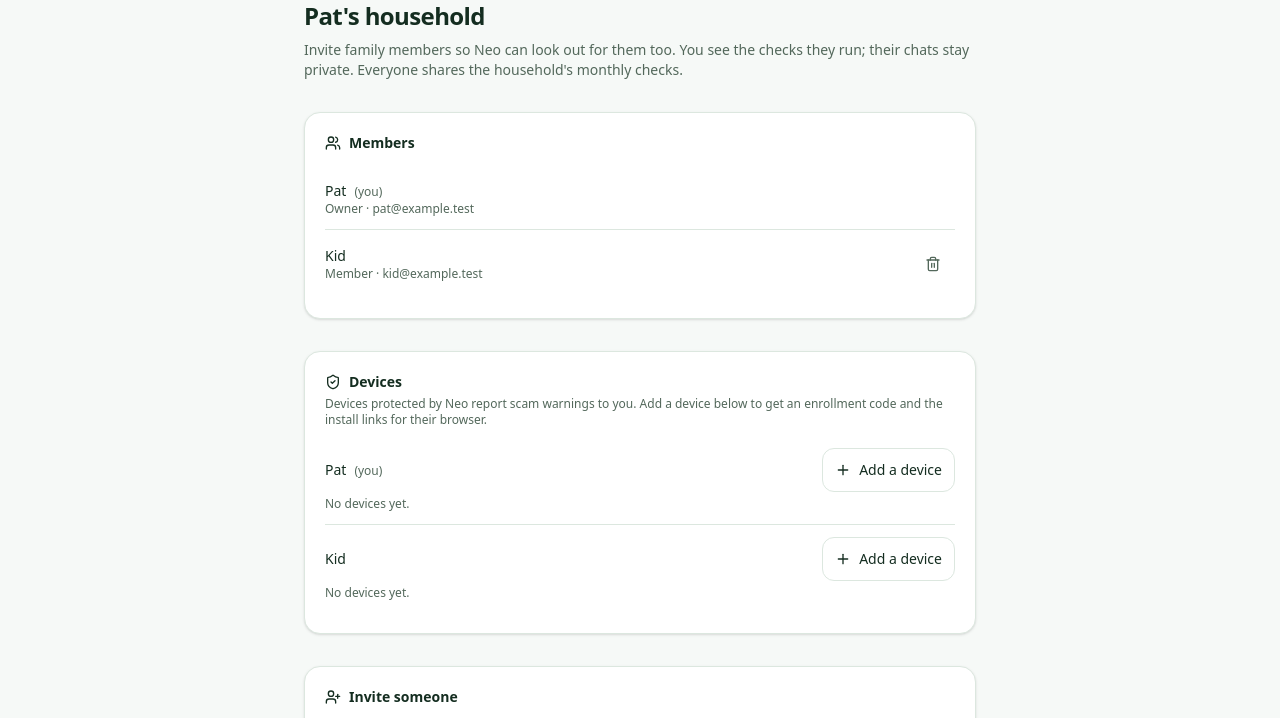
HouseholdSettingsView › shows members, invites and a confirmation before removing someone
Click the button named "Remove Kid".
click(933, 264)  # box [911,242,955,286]
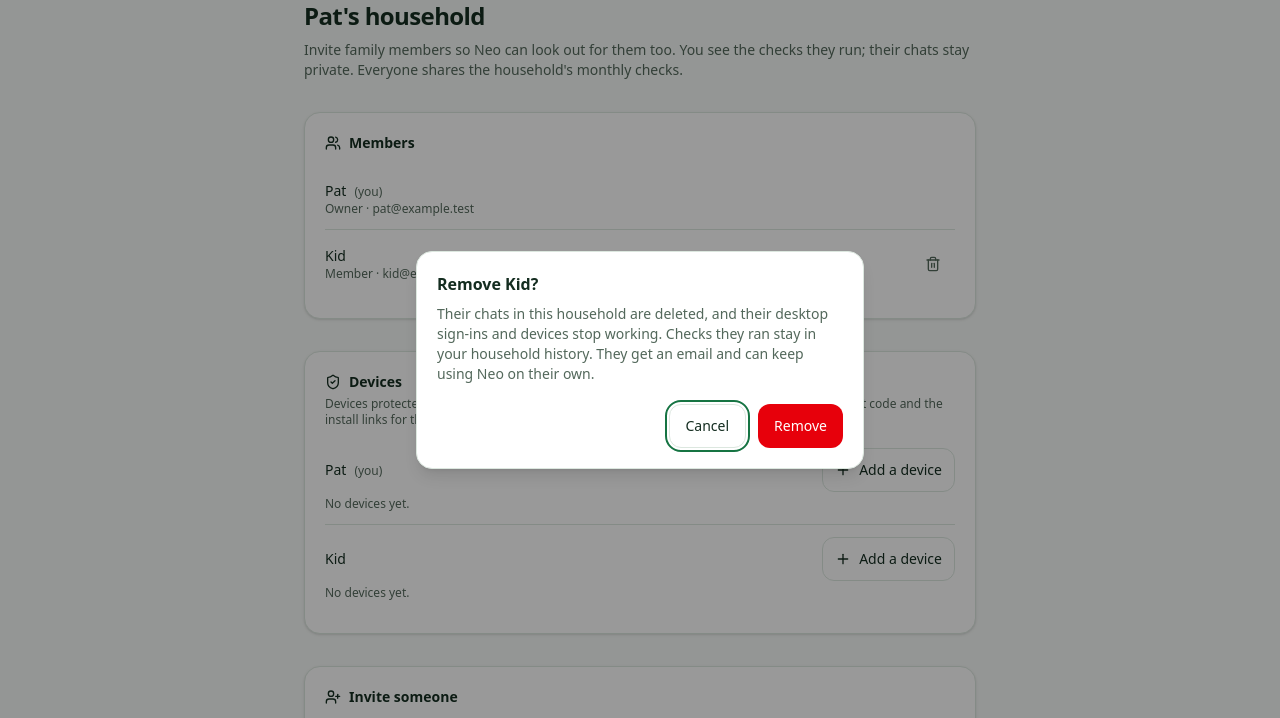
Now the heading "Remove Kid?" is shown, box [437,273,538,295]
Click the button "Remove".
click(801, 426)  # box [758,404,843,448]
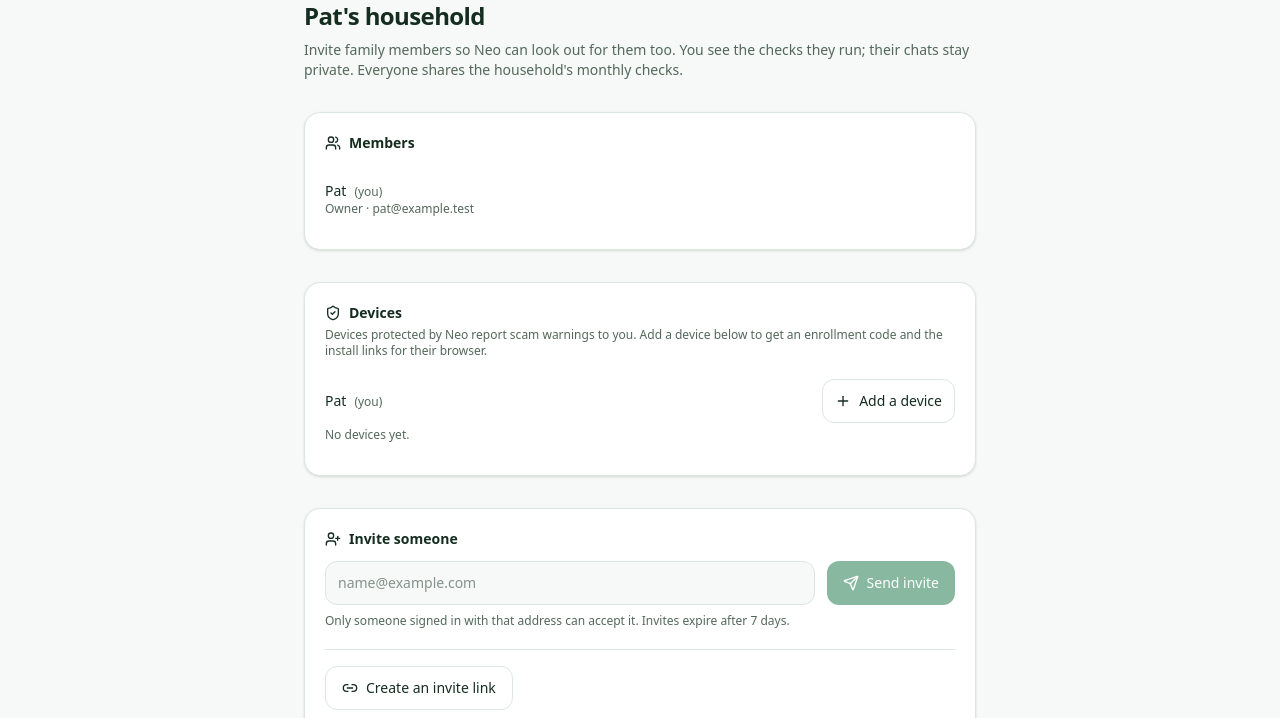
Now the text "Kid" is gone
